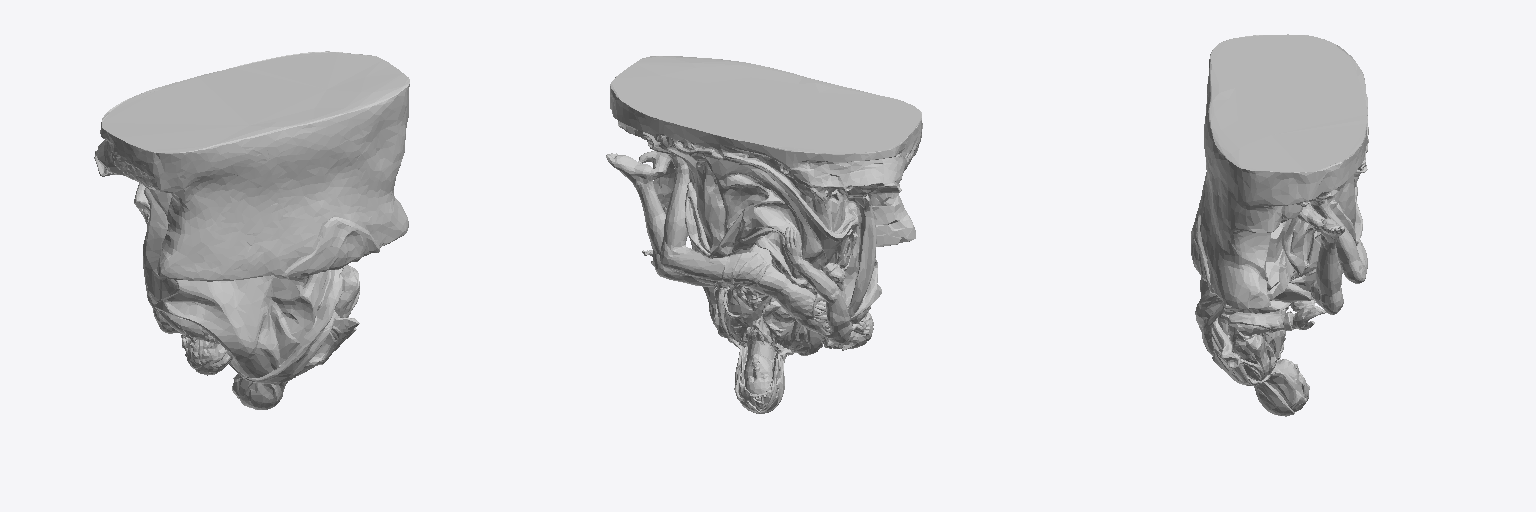
Rendered from pieta.obj.
3 views of the same model, side by side, from view 1: azimuth 30°, elevation 25°; view 2: azimuth 150°, elevation 25°; view 3: azimuth 270°, elevation 25° (orthographic).
Visible parts, largest first — view 1: Smk16-Kas115-Pieta-Michelangelo; view 2: Smk16-Kas115-Pieta-Michelangelo; view 3: Smk16-Kas115-Pieta-Michelangelo.
Part boxes in pixels (bbox=[...]): Smk16-Kas115-Pieta-Michelangelo: bbox=[94, 51, 409, 409]; Smk16-Kas115-Pieta-Michelangelo: bbox=[606, 56, 922, 413]; Smk16-Kas115-Pieta-Michelangelo: bbox=[1191, 34, 1368, 416].
Bounding box in the file's own units: 191 × 196 × 102.